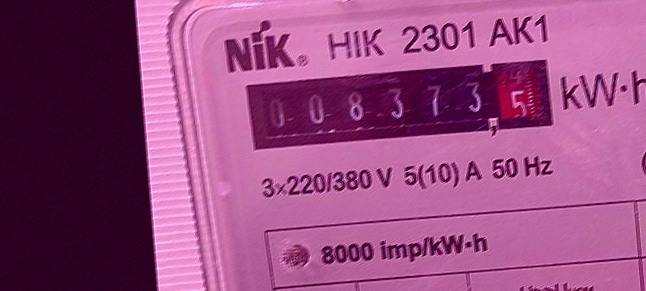0: (264, 92, 287, 129), (304, 88, 325, 125)
3: (460, 75, 485, 114), (382, 81, 406, 120)
4: (504, 64, 524, 85)
5: (507, 85, 528, 116)
7: (422, 78, 443, 118)
8: (342, 85, 366, 122)
screen: (238, 49, 561, 161)
